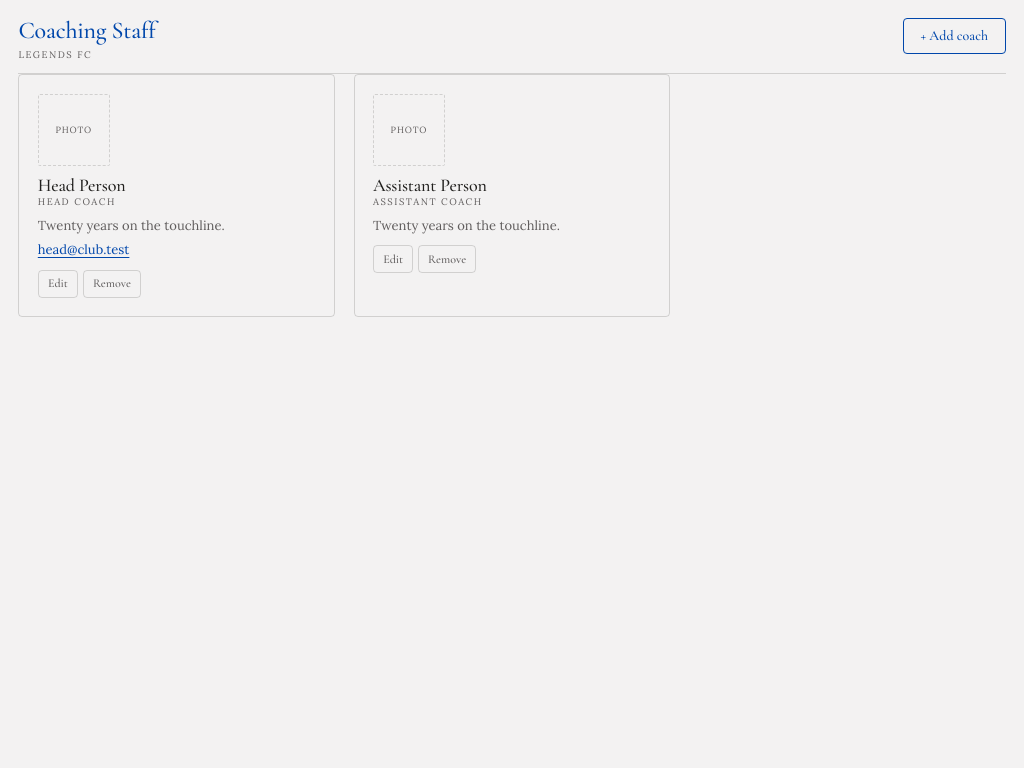
Test: what a coach may do › opens the form filled in to edit
Click the button "Edit" below "head@club.test".
click(58, 284)  # box [38,270,78,298]
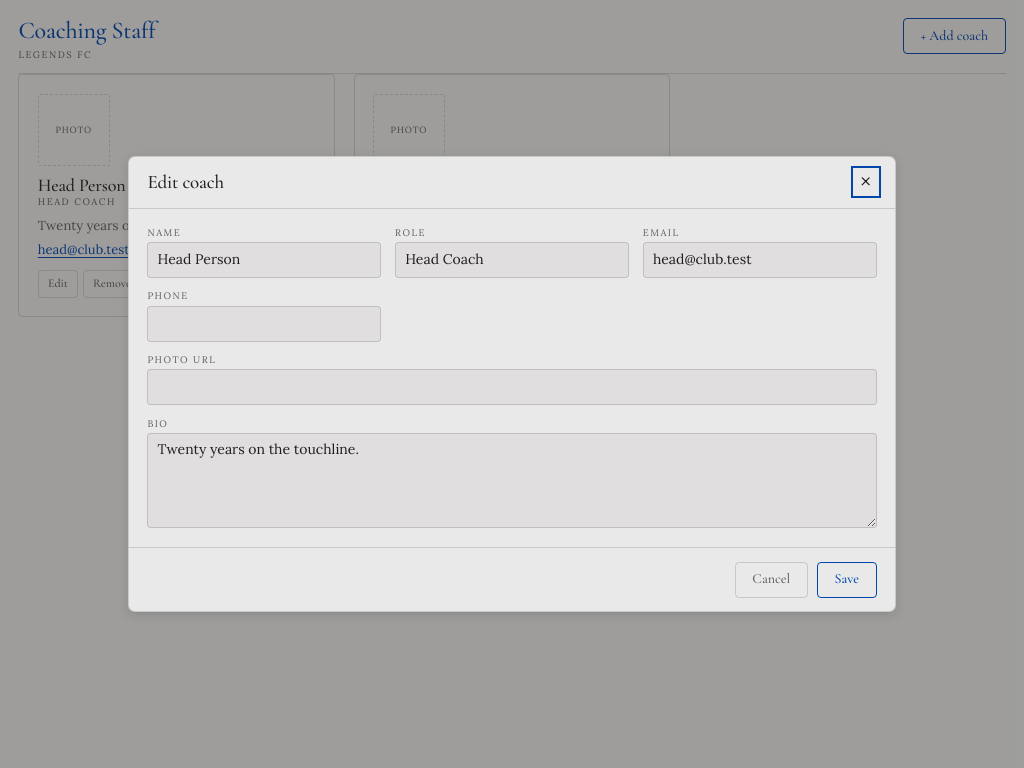
Check: the field labelled "Name" holds "Head Person", box [147,242,381,278]
